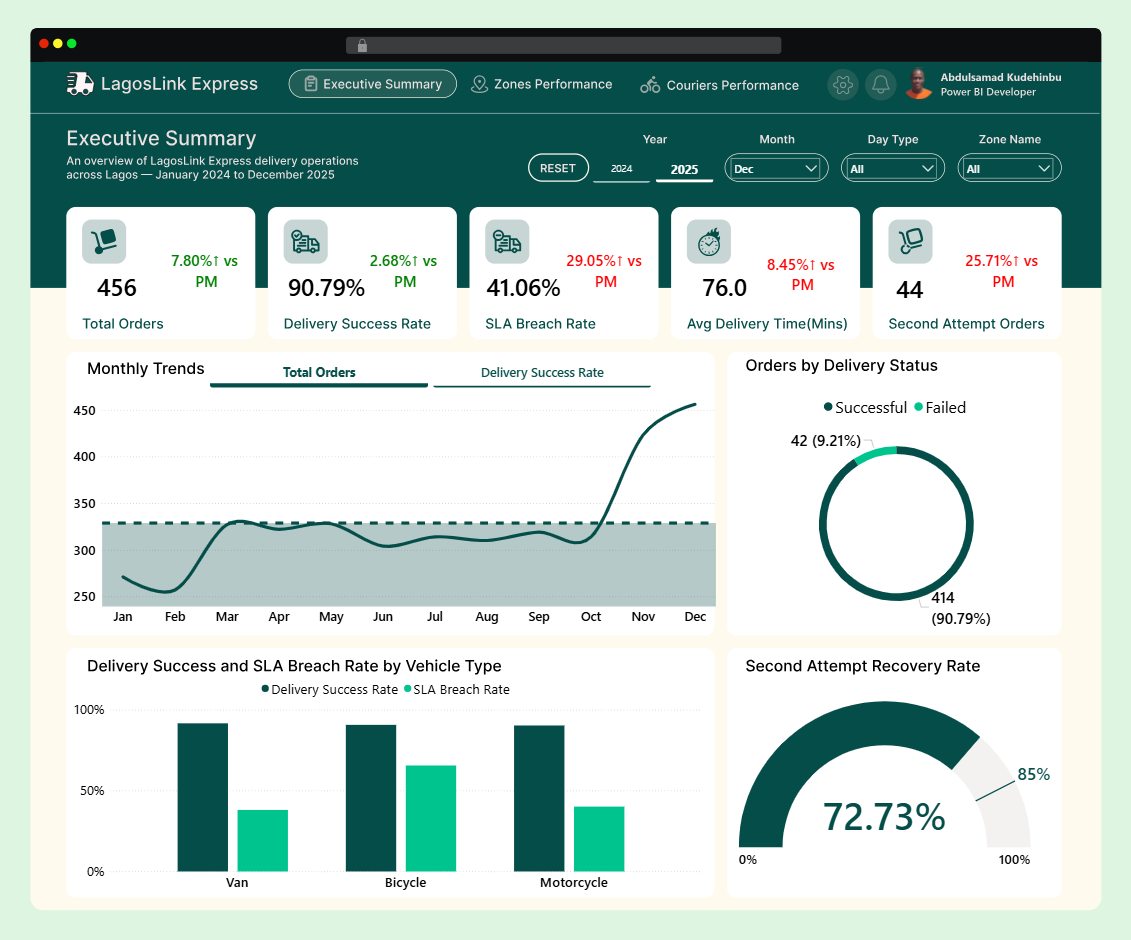

What the dashboard file says about the page in this screenshot:
{"tool":"powerbi","page":{"name":"Executive Summary","canvas":[1800,1500],"ordinal":0},"visuals":[{"type":"card","fields":{"Values":["_Measures.TOTAL ORDERS"]},"box":[108.7,412.2,160,90],"z":0},{"type":"card","fields":{"Values":["_Measures.SLA BREACH RATE"]},"box":[757,412.2,160,90],"z":1000},{"type":"card","fields":{"Values":["_Measures.DELIVERY SUCCESS RATE"]},"box":[443.2,412.2,160,90],"z":2000},{"type":"card","fields":{"Values":["_Measures.AVG DELIVERY TIME"]},"box":[1068.5,412.2,173,90],"z":3000},{"type":"card","fields":{"Values":["_Measures.SECOND ATTEMPT ORDERS"]},"box":[1368.4,414.5,159.2,90],"z":4000},{"type":"card","fields":{"Values":["_Measures.TOTAL ORDERS MoM% WITH ARROW"]},"box":[268.4,372.8,130,110],"z":5000},{"type":"slicer","fields":{"Values":["dim_date.month_name_short"]},"box":[1154.2,241.5,161.7,48.7],"z":6000},{"type":"advancedSlicerVisual","fields":{"Values":["dim_date.year"]},"box":[941.6,237,203.8,57.6],"z":7000},{"type":"lineChart","fields":{"Y":["_Measures.TOTAL ORDERS"],"Category":["dim_date.month_name_short"]},"box":[115,621.2,1030.2,380.9],"z":8000},{"type":"advancedSlicerVisual","fields":{"Values":["Orders and Success Rate.Orders and Success Rate"]},"box":[332.3,559.8,710.6,61.4],"z":9000},{"type":"donutChart","fields":{"Y":["_Measures.SUCCESSFUL DELIVERIES","_Measures.FAILED DELIVERIES"]},"box":[1173.5,619.2,510.2,382.7],"z":10000},{"type":"card","fields":{"Values":["_Measures.DELIVERY SUCCESS RATE MoM% WITH ARROW"]},"box":[582.8,372.8,130.4,109.9],"z":11000},{"type":"card","fields":{"Values":["_Measures.SLA BREACH RATE MoM% WITH ARROW"]},"box":[898.6,372.8,130,110],"z":12000},{"type":"card","fields":{"Values":["_Measures.AVG DELIVERY TIME MoM% WITH ARROW"]},"box":[1214.3,372.8,130,120],"z":13000},{"type":"card","fields":{"Values":["_Measures.SECOND ATTEMPT ORDERS MoM% WITH ARROW"]},"box":[1530.4,372.8,130,110],"z":14000},{"type":"clusteredColumnChart","fields":{"Category":["dim_courier.vehicle_type"],"Y":["_Measures.DELIVERY SUCCESS RATE","_Measures.SLA BREACH RATE"]},"box":[117,1069.4,1006.3,358],"z":15000},{"type":"gauge","fields":{"Y":["_Measures.SECOND ATTEMPT RECOVERY RATE"],"TargetValue":["_Measures.SECOND ATTEMPT RECOVERY RATE TARGET"]},"box":[1172.4,1090.5,510.1,318.3],"z":16000},{"type":"slicer","fields":{"Values":["dim_date.day_type"]},"box":[1340,241.5,162.5,48.8],"z":17000},{"type":"slicer","fields":{"Values":["dim_zone.zone_name"]},"box":[1523.8,241.2,162.5,48.8],"z":18000},{"type":"actionButton","box":[465.2,104.8,263.3,53.7],"z":18001},{"type":"actionButton","box":[741.3,104.8,258.2,53.7],"z":18002},{"type":"actionButton","box":[1009.7,104.8,273.5,53.7],"z":18003},{"type":"actionButton","box":[835.9,237.7,109.9,58.8],"z":18004}]}

Visuals, with their boxes on the page's 1800x1500 design canvas (x1, y1, x2, y2). These are canvas units, not pixel positions in the 1131x940 screenshot, which may show the page scaled, cropped or inside an application window:
card - _Measures.TOTAL ORDERS: [left=109, top=412, right=269, bottom=502]
card - _Measures.SLA BREACH RATE: [left=757, top=412, right=917, bottom=502]
card - _Measures.DELIVERY SUCCESS RATE: [left=443, top=412, right=603, bottom=502]
card - _Measures.AVG DELIVERY TIME: [left=1068, top=412, right=1242, bottom=502]
card - _Measures.SECOND ATTEMPT ORDERS: [left=1368, top=414, right=1528, bottom=504]
card - _Measures.TOTAL ORDERS MoM% WITH ARROW: [left=268, top=373, right=398, bottom=483]
slicer - dim_date.month_name_short: [left=1154, top=242, right=1316, bottom=290]
advancedSlicerVisual - dim_date.year: [left=942, top=237, right=1145, bottom=295]
lineChart - _Measures.TOTAL ORDERS x dim_date.month_name_short: [left=115, top=621, right=1145, bottom=1002]
advancedSlicerVisual - Orders and Success Rate.Orders and Success Rate: [left=332, top=560, right=1043, bottom=621]
donutChart - _Measures.SUCCESSFUL DELIVERIES x _Measures.FAILED DELIVERIES: [left=1174, top=619, right=1684, bottom=1002]
card - _Measures.DELIVERY SUCCESS RATE MoM% WITH ARROW: [left=583, top=373, right=713, bottom=483]
card - _Measures.SLA BREACH RATE MoM% WITH ARROW: [left=899, top=373, right=1029, bottom=483]
card - _Measures.AVG DELIVERY TIME MoM% WITH ARROW: [left=1214, top=373, right=1344, bottom=493]
card - _Measures.SECOND ATTEMPT ORDERS MoM% WITH ARROW: [left=1530, top=373, right=1660, bottom=483]
clusteredColumnChart - dim_courier.vehicle_type x _Measures.DELIVERY SUCCESS RATE: [left=117, top=1069, right=1123, bottom=1427]
gauge - _Measures.SECOND ATTEMPT RECOVERY RATE x _Measures.SECOND ATTEMPT RECOVERY RATE TARGET: [left=1172, top=1090, right=1682, bottom=1409]
slicer - dim_date.day_type: [left=1340, top=242, right=1502, bottom=290]
slicer - dim_zone.zone_name: [left=1524, top=241, right=1686, bottom=290]
actionButton: [left=465, top=105, right=728, bottom=158]
actionButton: [left=741, top=105, right=1000, bottom=158]
actionButton: [left=1010, top=105, right=1283, bottom=158]
actionButton: [left=836, top=238, right=946, bottom=296]
